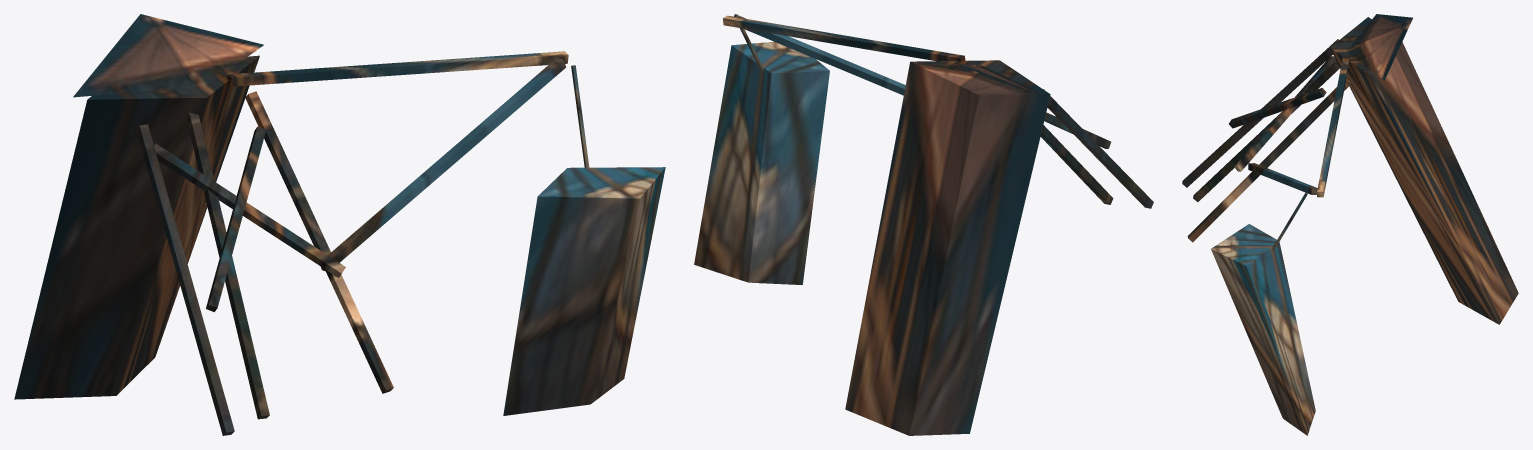
File: crane.glb
The picture shows the model from 3 angles, left to right: view 1: azimuth 30°, elevation 25°; view 2: azimuth 150°, elevation 25°; view 3: azimuth 270°, elevation 25°; orthographic projection. The views are drawn at different scales.
Visible parts, largest first — view 1: Lookout, Freight_cradle, Crane_roof, Hoist_beam_05, Hoist_beam_00, Hoist_beam_06, Hoist_beam_01, Hoist_beam_02, Hoist_beam_04, Hoist_beam_03; view 2: Lookout, Freight_cradle, Hoist_beam_05, Hoist_beam_06, Hoist_beam_00, Hoist_beam_02, Crane_roof; view 3: Lookout, Freight_cradle, Crane_roof, Hoist_beam_01, Hoist_beam_00, Hoist_beam_05, Hoist_beam_02, Hoist_beam_04, Hoist_beam_03, Hoist_beam_06.
Boxes of the visible parts, x1,y1,x2,y2 form: Lookout: (14,55,259,399); Freight_cradle: (503,167,665,415); Crane_roof: (73,14,263,97); Hoist_beam_05: (227,51,568,86); Hoist_beam_00: (136,124,234,435); Hoist_beam_06: (321,58,566,272); Hoist_beam_01: (245,91,393,393); Hoist_beam_02: (186,112,269,419); Hoist_beam_04: (154,143,345,277); Hoist_beam_03: (206,126,266,312); Lookout: (845,60,1050,435); Freight_cradle: (694,41,829,284); Hoist_beam_05: (723,15,965,61); Hoist_beam_06: (736,15,905,95); Hoist_beam_00: (1043,89,1153,208); Hoist_beam_02: (1040,125,1113,204); Crane_roof: (911,64,1050,98); Lookout: (1330,17,1518,324); Freight_cradle: (1211,224,1315,435); Crane_roof: (1346,14,1412,80); Hoist_beam_01: (1187,78,1350,242); Hoist_beam_00: (1182,39,1338,187); Hoist_beam_05: (1317,56,1349,197); Hoist_beam_02: (1193,61,1339,201); Hoist_beam_04: (1234,56,1335,171); Hoist_beam_03: (1229,88,1326,128); Hoist_beam_06: (1248,163,1317,194).
Size of the model in its own units: 25.74 by 20 by 21.69.
Materials: 1 (1 with a texture image).
